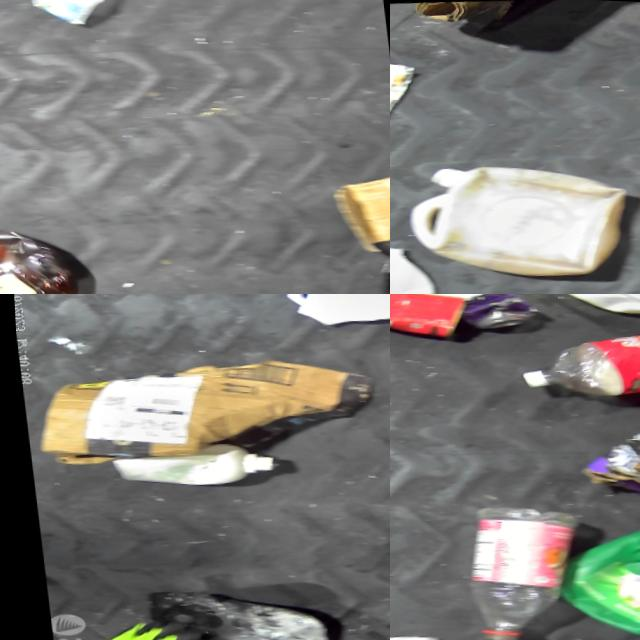can: (455, 294, 540, 330)
milk_jug: (399, 152, 635, 285), (538, 294, 640, 330)
non_white_jug: (541, 496, 640, 639)
plastic_bottle: (453, 497, 552, 640), (510, 313, 640, 401)
